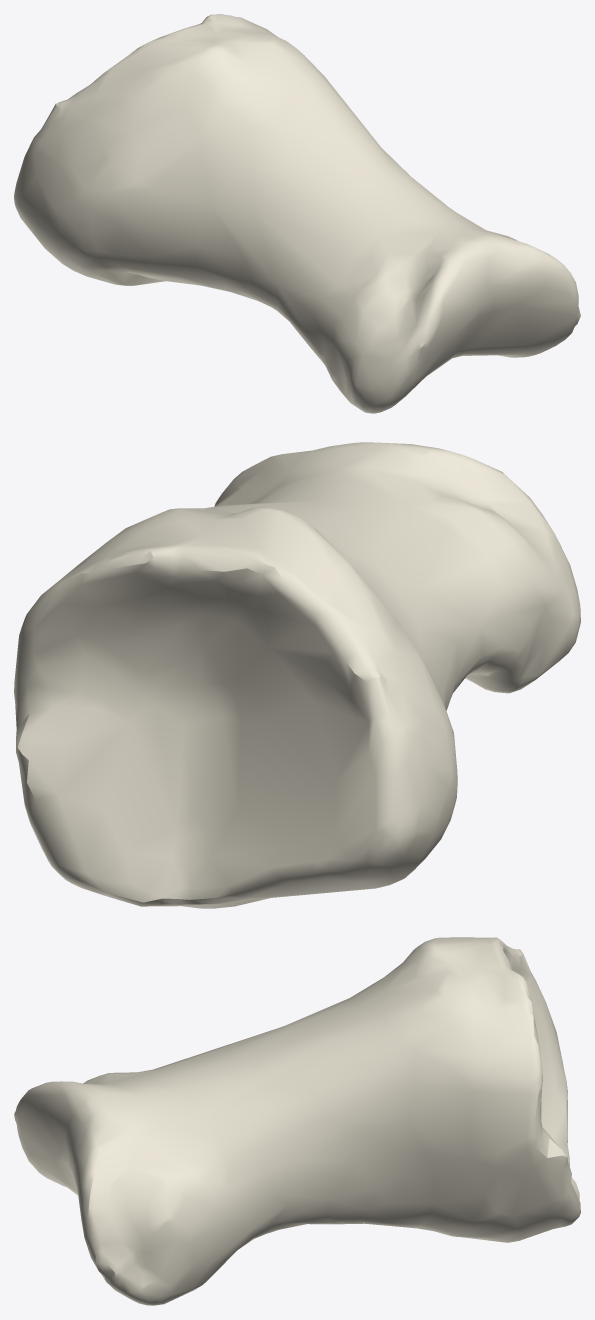
File: fma43254.glb
3 renders of one model, top to bottom at view 1: azimuth 30°, elevation 25°; view 2: azimuth 150°, elevation 25°; view 3: azimuth 270°, elevation 25°, orthographic. The views are drawn at different scales.
Visible parts, largest first — view 1: FMA43254; view 2: FMA43254; view 3: FMA43254.
Boxes of the visible parts, x1=… form: FMA43254: x1=14, y1=14, x2=580, y2=413; FMA43254: x1=14, y1=442, x2=580, y2=908; FMA43254: x1=14, y1=937, x2=580, y2=1305.
Size of the model in its own units: 0.0255 by 0.0174 by 0.0334.
